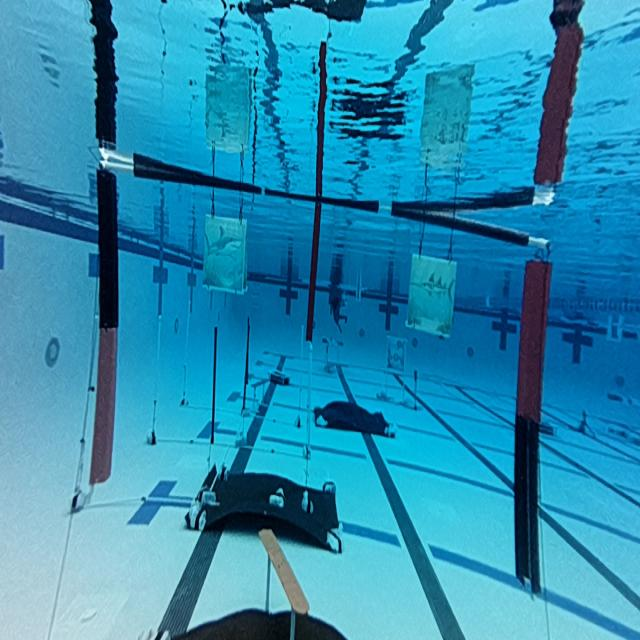pointed_nose: (409, 252, 456, 337)
round_nose: (200, 213, 250, 290)
